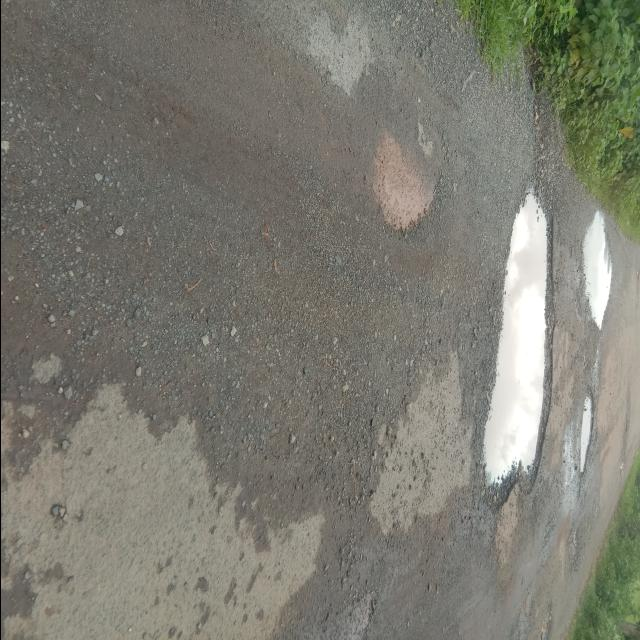potholes: (482, 185, 556, 512), (364, 117, 440, 239), (577, 208, 614, 332), (580, 389, 594, 485), (560, 518, 582, 572)
